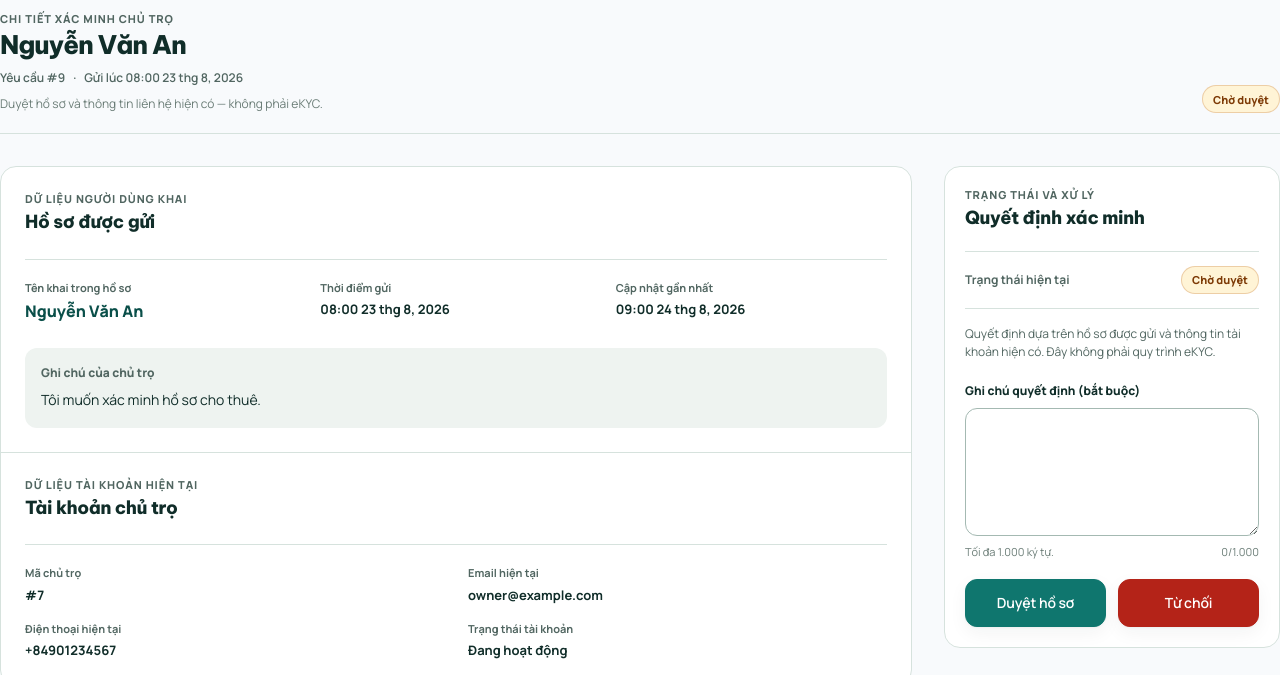
it: AdminVerificationDetail › locks decisions after an uncertain network failure until canonical state is refreshed
This screenshot has width=1280, height=675.
Type "Thông tin đã được đối chiếu." into the text box labelled "Ghi chú quyết định (bắt buộc)" at (1112, 472), box [965, 408, 1259, 536]
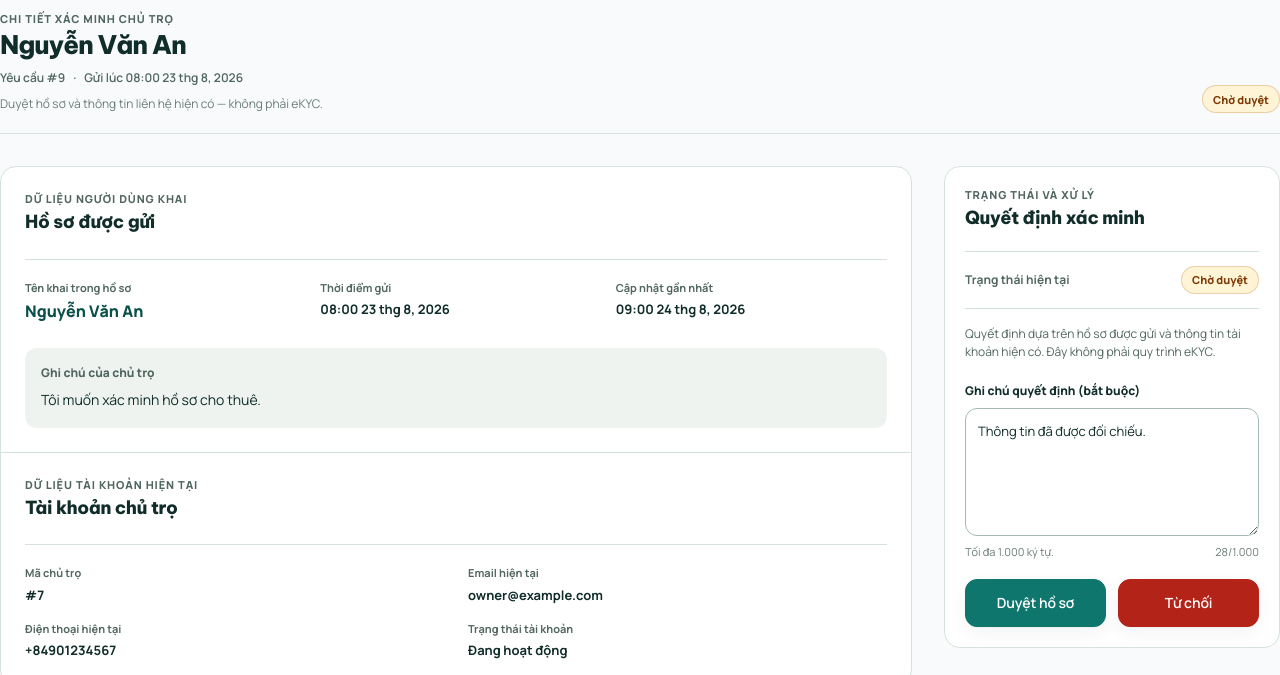
Click the button "Duyệt hồ sơ" at (1036, 603), box [965, 579, 1106, 627]
(page scrolled)
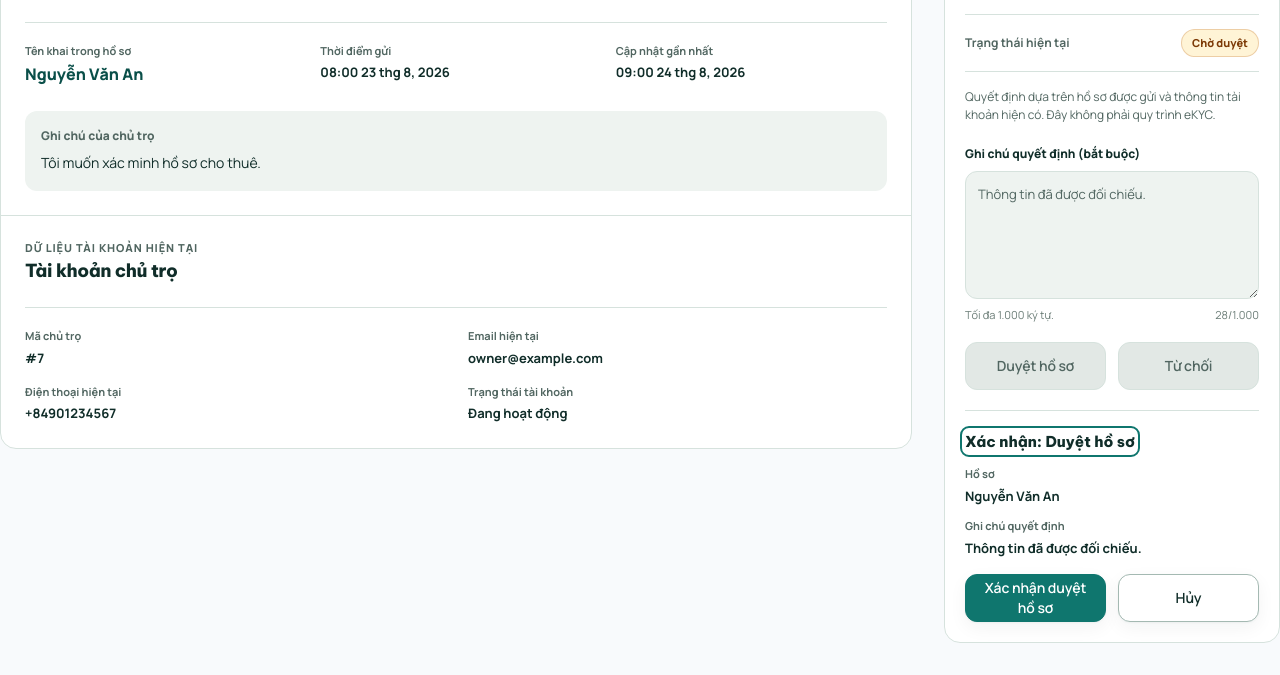
Click the button "Xác nhận duyệt hồ sơ" at (1036, 598), box [965, 574, 1106, 622]
(page scrolled)
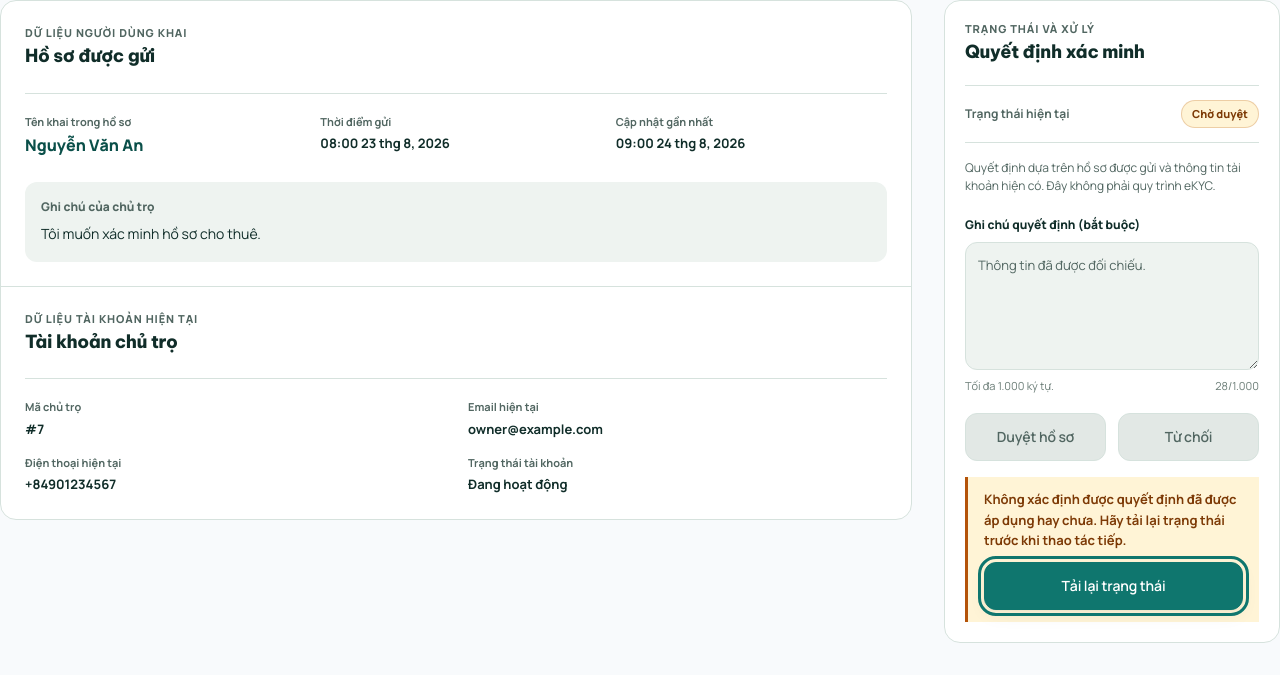
Expected: the button "Duyệt hồ sơ" is disabled, [965, 413, 1106, 461]
Expected: the button "Từ chối" is disabled, [1118, 413, 1259, 461]
Expected: the message shows "Không xác định được quyết định", [984, 490, 1236, 549]
Click the button "Tải lại trạng thái" at (1114, 586), box [984, 562, 1243, 610]
(page scrolled)
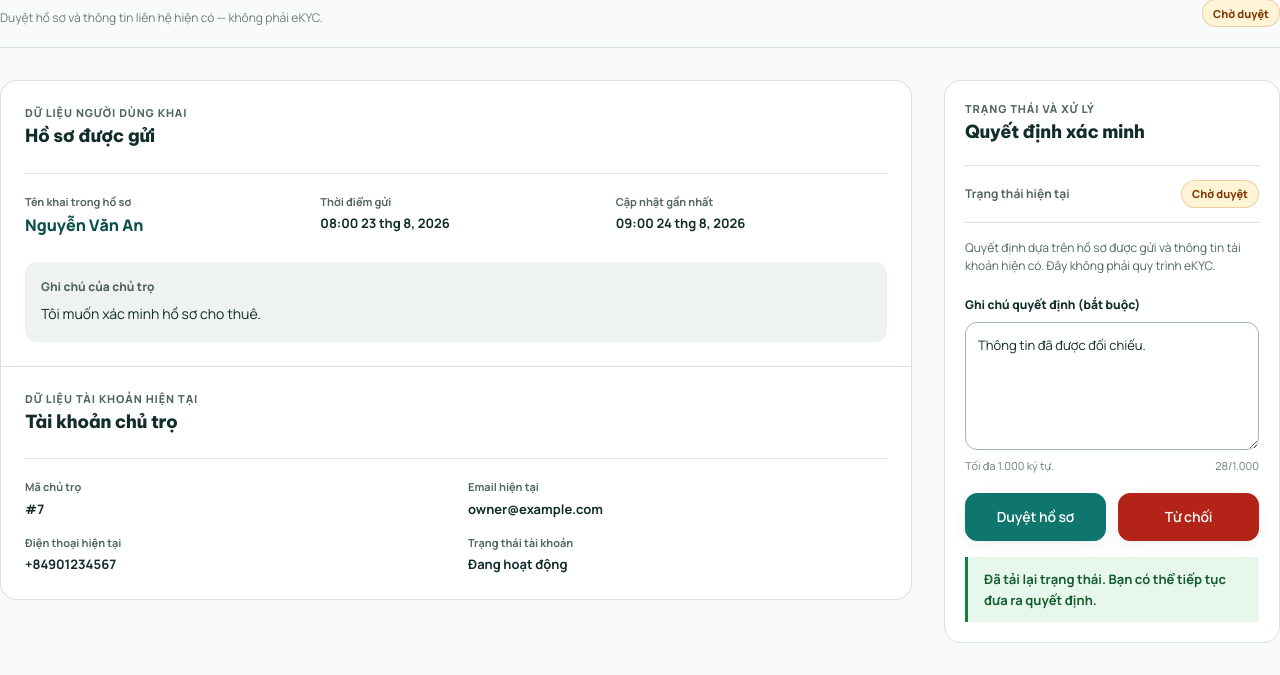
Expected: the message shows "Đã tải lại trạng thái", [984, 570, 1226, 608]
Expected: the button "Duyệt hồ sơ" is enabled, [965, 493, 1106, 541]
